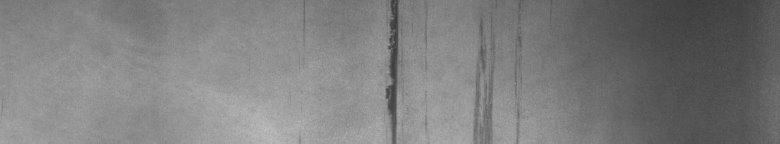hd: (378, 4, 407, 136)
